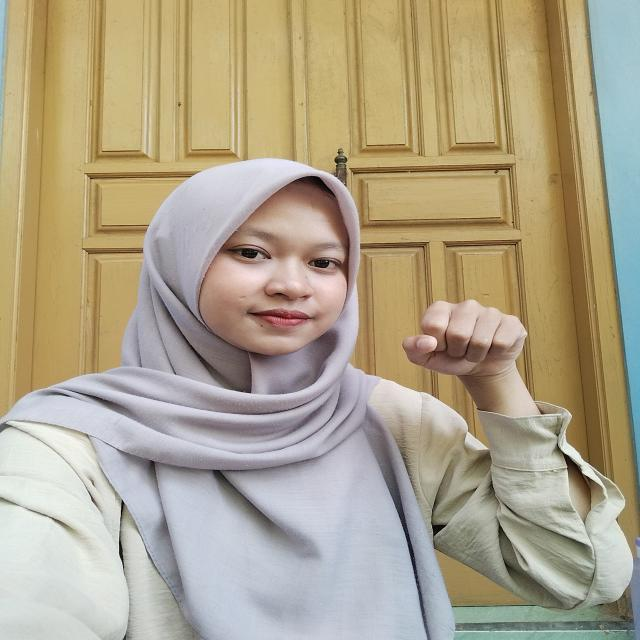baik: (376, 269, 552, 415)
